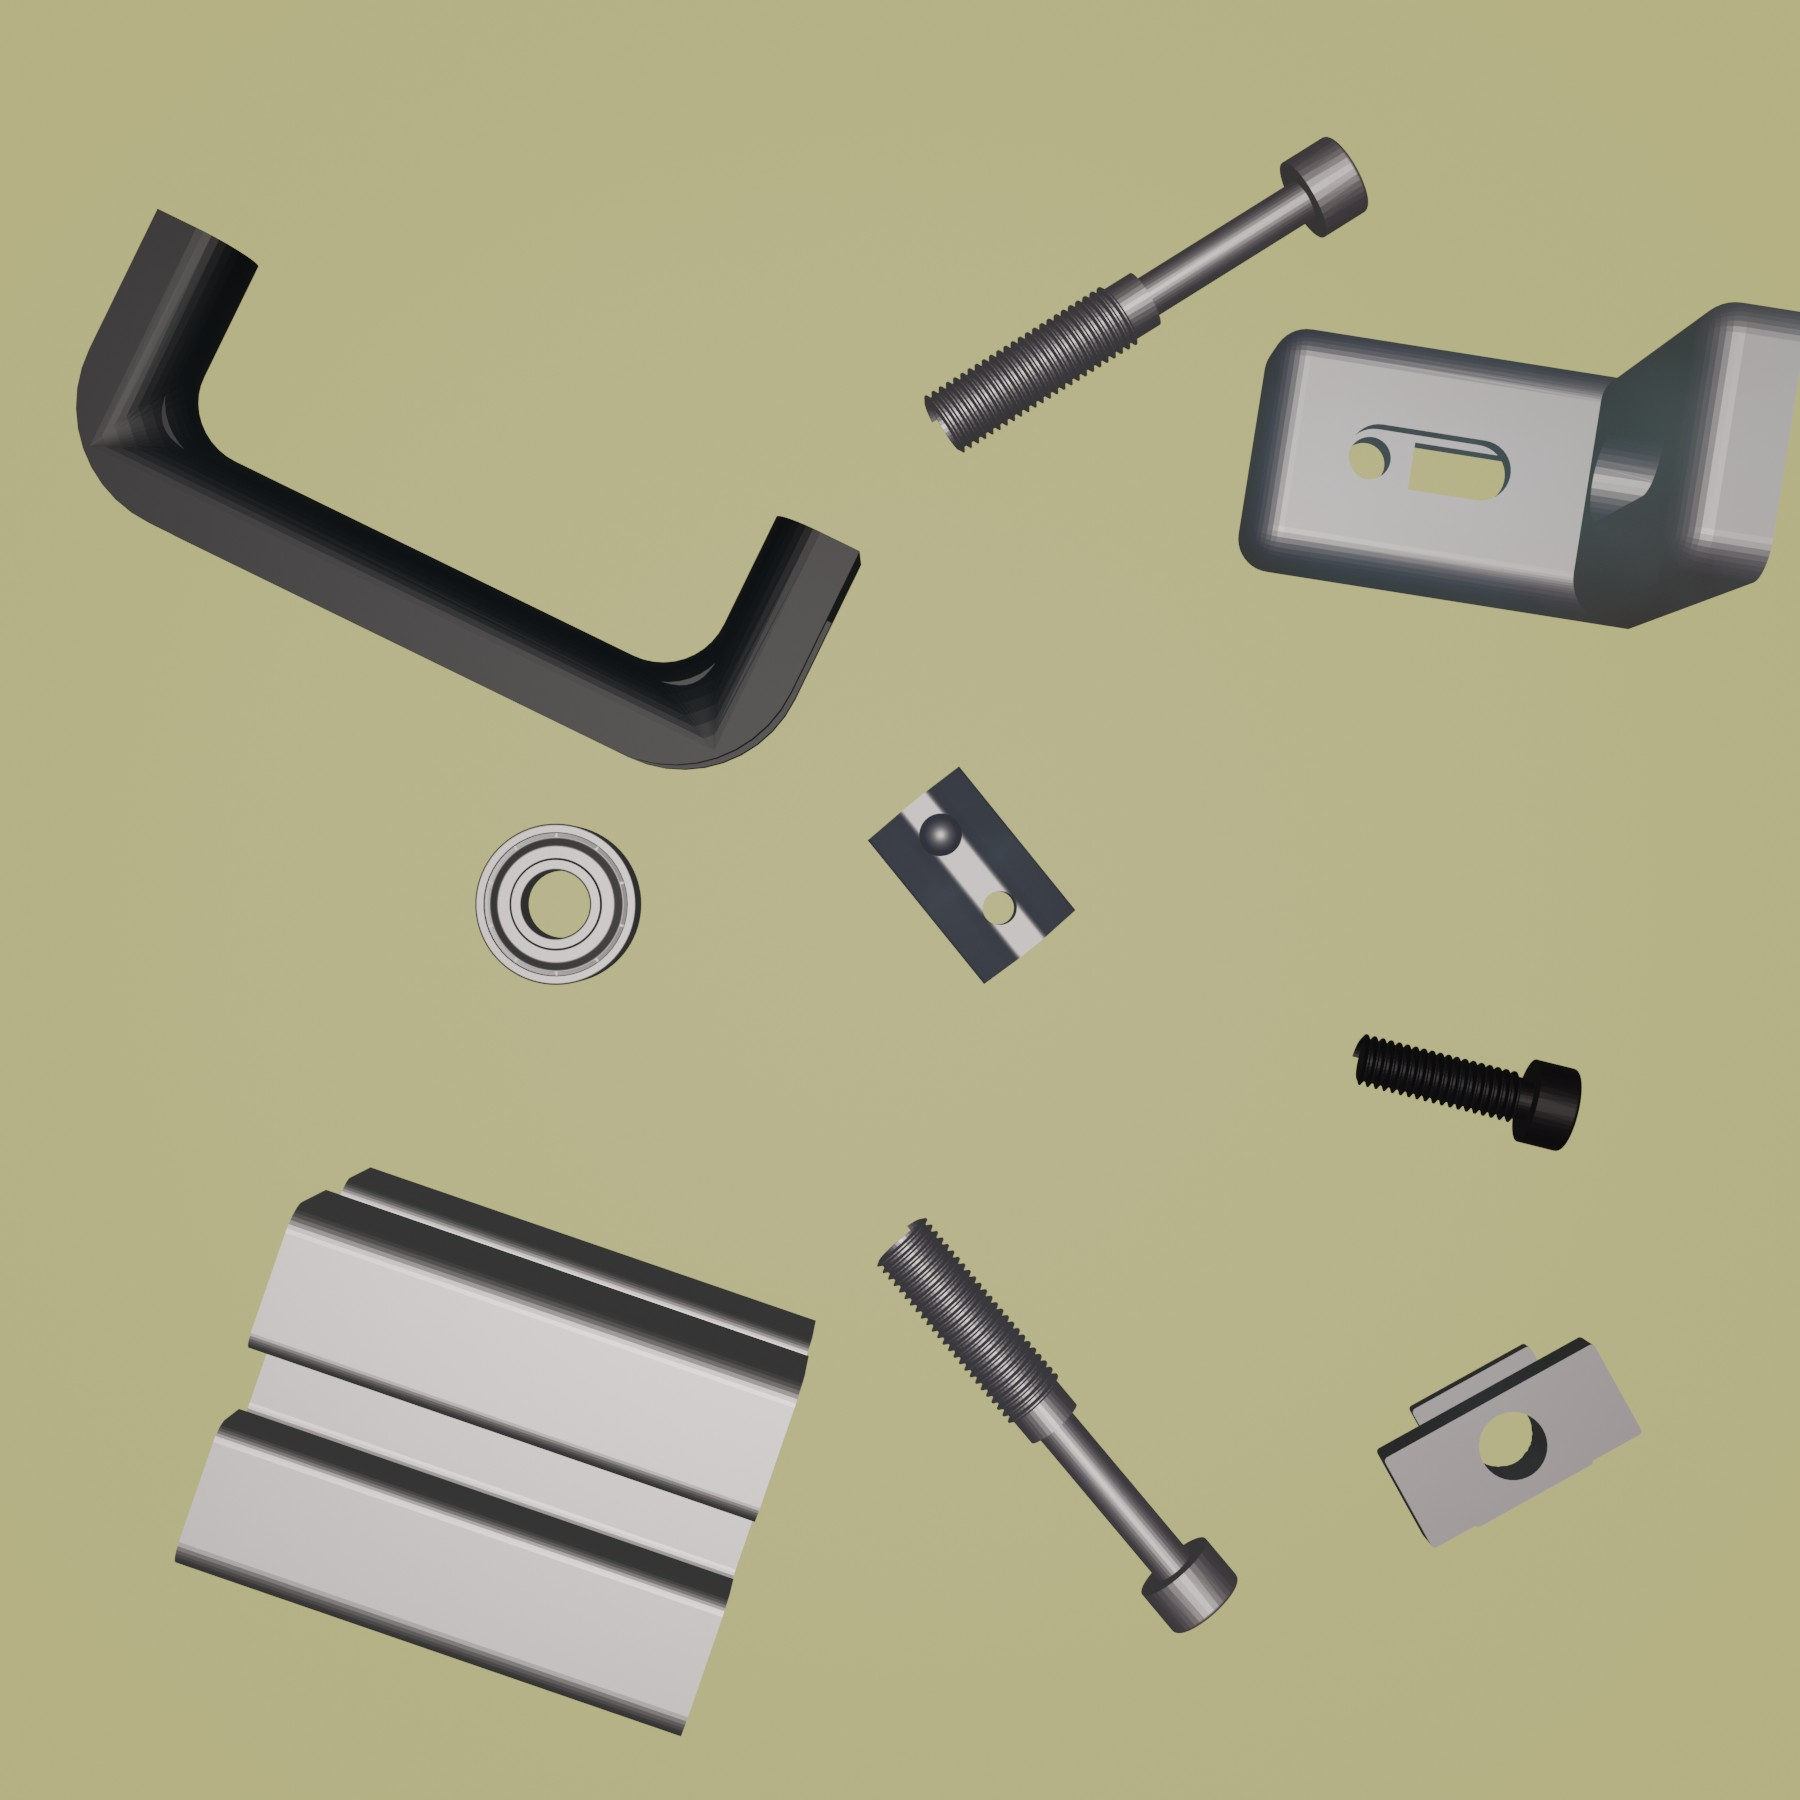Aluminium Extension: (171, 1164, 818, 1741)
Ball Bearing: (471, 818, 643, 989)
Multiwinkel: (1236, 298, 1800, 631)
Pull Handle: (74, 208, 862, 775)
Shoulder Socket Head Cap Screw: (870, 1212, 1240, 1638), (920, 130, 1371, 453)
Socket Head Cap Screw: (1350, 1029, 1582, 1152)
T Nut Square: (1375, 1330, 1647, 1549)
T Spring Nut: (864, 763, 1076, 986)
